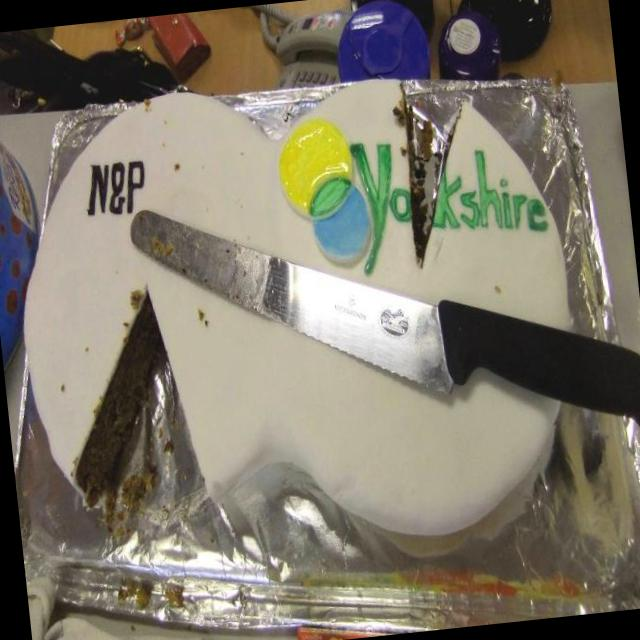Knife: (132, 210, 640, 428)
